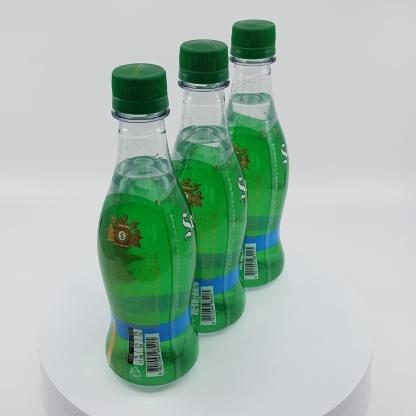--------350ML: (97, 63, 199, 386), (160, 39, 248, 335)
